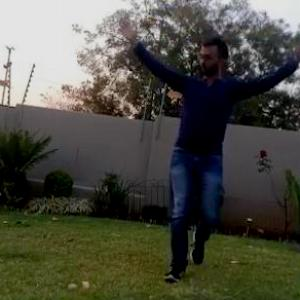takeoff: (114, 23, 296, 280)
